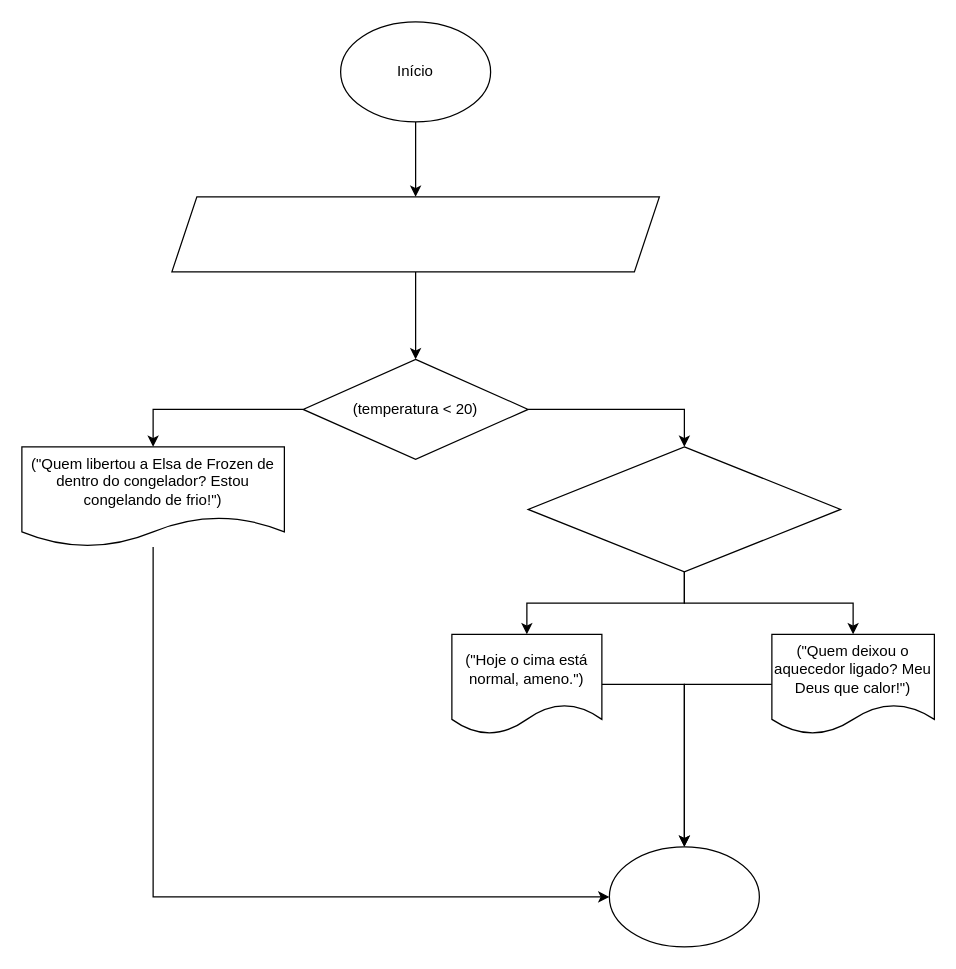
This 956x969 diagram has some shape labels left out. The box of each missing label's shape, as (x1, y1, x2, y2) in pixels:
(temperatura <= 25) e (temperatura >= 20): (527, 446, 841, 572)
Fim: (608, 846, 759, 947)
temperatura: (171, 196, 659, 272)
